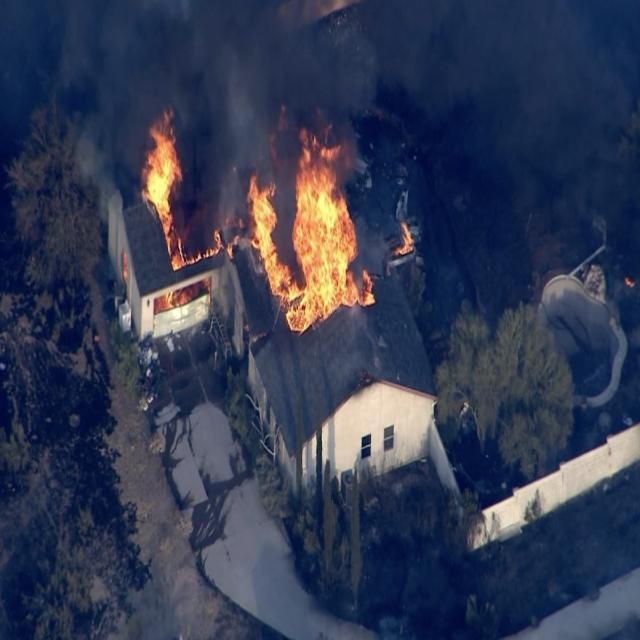Fire: (293, 126, 359, 312), (246, 174, 290, 300), (141, 107, 183, 214), (282, 262, 315, 330), (162, 213, 184, 271), (226, 215, 245, 258), (359, 266, 376, 308), (396, 221, 414, 256), (204, 230, 225, 259), (154, 290, 178, 312), (184, 253, 201, 268), (181, 286, 193, 304), (122, 252, 129, 281), (625, 275, 635, 289), (206, 277, 210, 303)
Smoke: (381, 0, 640, 182), (0, 0, 381, 108), (182, 107, 246, 213), (80, 108, 140, 193), (246, 99, 293, 170), (356, 216, 390, 269)
